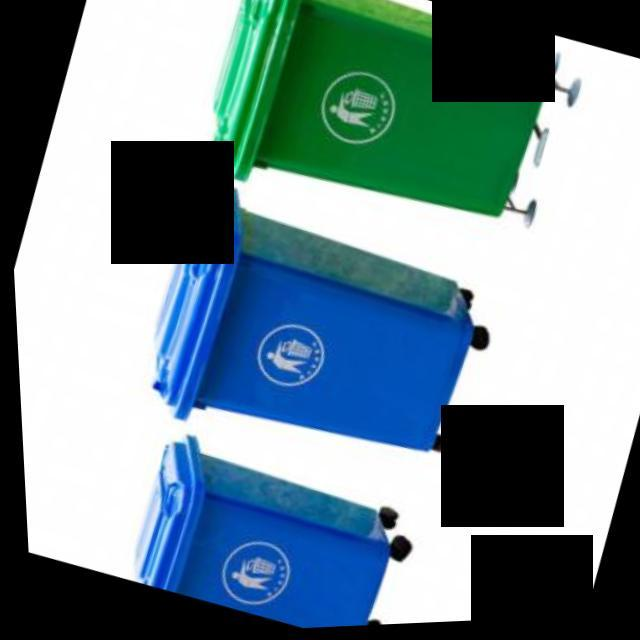bin: (108, 161, 537, 521), (174, 0, 620, 288), (100, 406, 453, 637)
